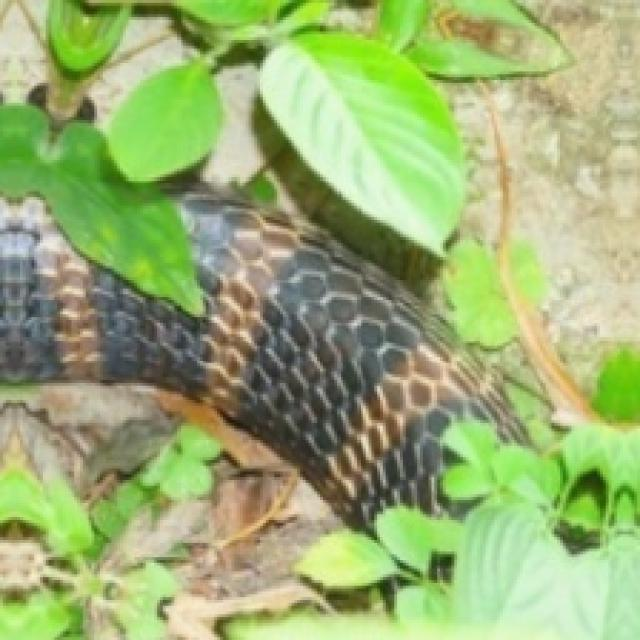king cobra: (0, 180, 509, 523)
